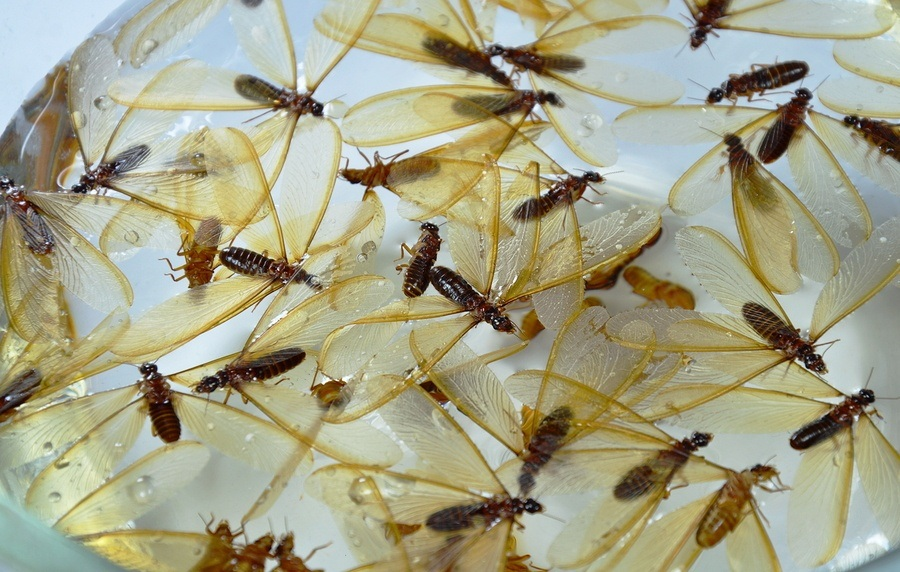flying termite: (2, 358, 283, 519), (701, 125, 839, 301)
